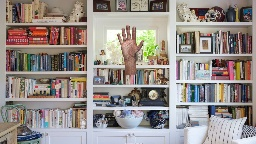Mano_aperta: (115, 24, 145, 60)
